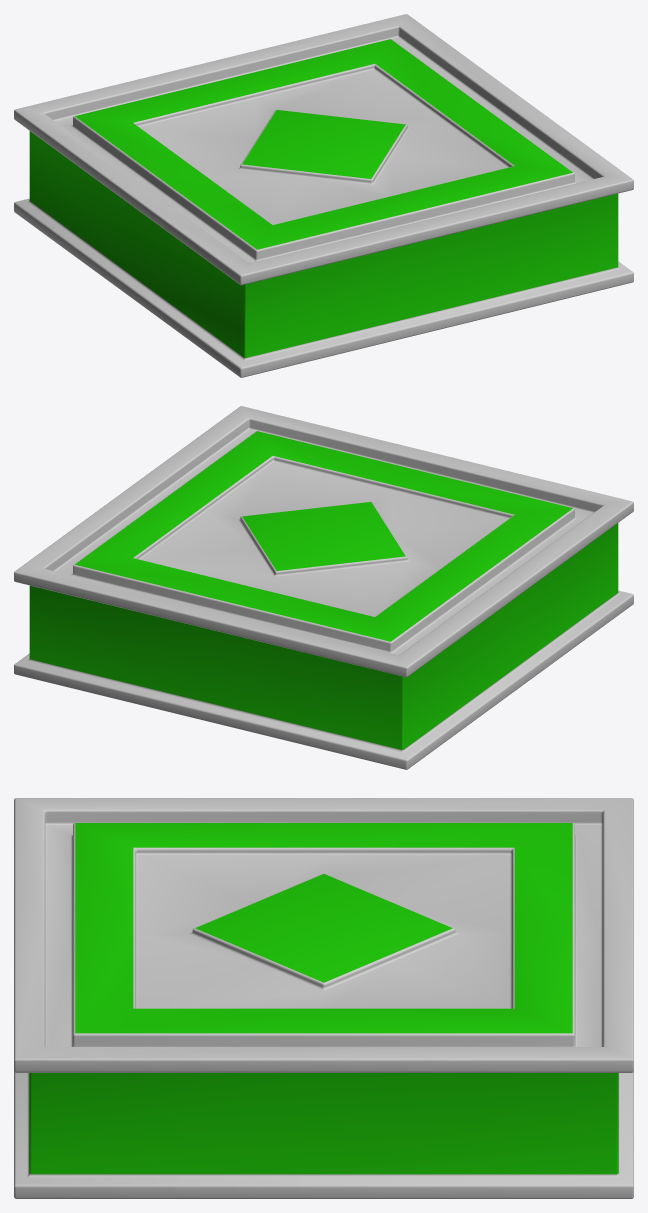
Rendered from start_end_platforms.fbx.
The picture shows the model from 3 angles, top to bottom: view 1: azimuth 30°, elevation 25°; view 2: azimuth 150°, elevation 25°; view 3: azimuth 270°, elevation 25°; orthographic projection. The views are drawn at different scales.
Visible parts, largest first — view 1: Würfel; view 2: Würfel; view 3: Würfel.
Boxes of the visible parts, x1,y1,x2,y2 form: Würfel: (14,14,633,377); Würfel: (14,406,633,769); Würfel: (14,798,633,1198).
Size of the model in its own units: 400 by 100 by 400.
